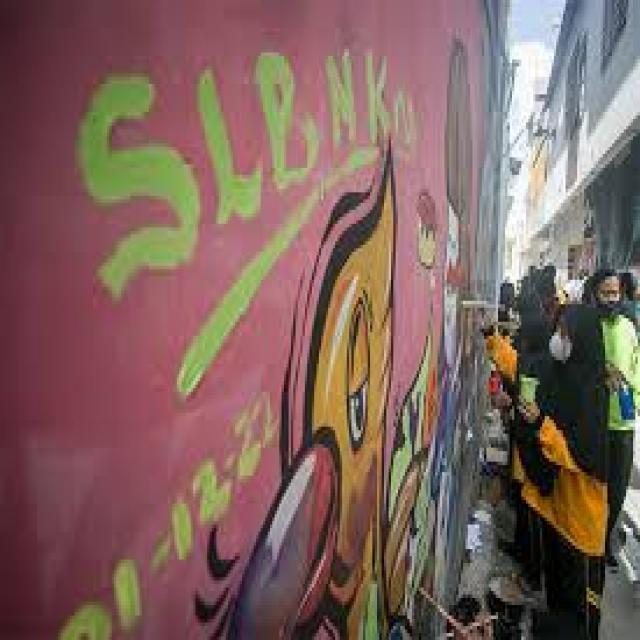-: (53, 38, 474, 640)
